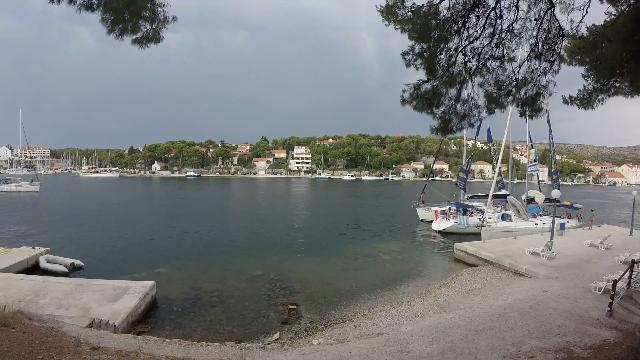Sailboat: (0, 172, 50, 194)
